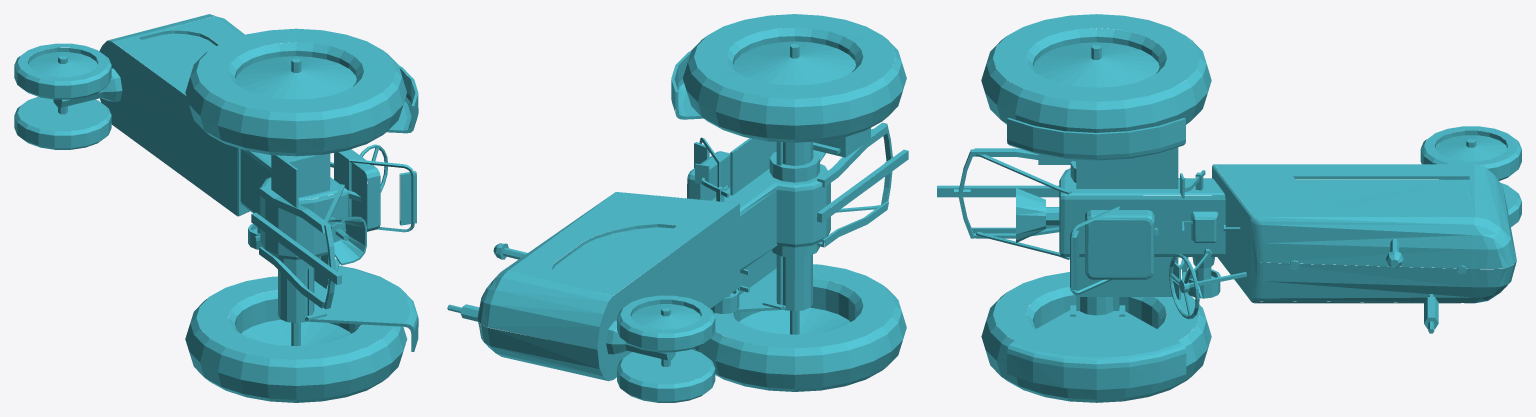
3 views of the same model, side by side, from view 1: azimuth 30°, elevation 25°; view 2: azimuth 150°, elevation 25°; view 3: azimuth 270°, elevation 25° (orthographic). The views are drawn at different scales.
Parts seen in each view (by area): view 1: Renderer Node; view 2: Renderer Node; view 3: Renderer Node.
Part boxes in pixels (bbox=[...]): Renderer Node: bbox=[14, 14, 418, 402]; Renderer Node: bbox=[447, 14, 908, 402]; Renderer Node: bbox=[937, 14, 1521, 402].
Bounding box in the file's own units: 1.14 × 1.22 × 2.
1 material, 1 textured.
